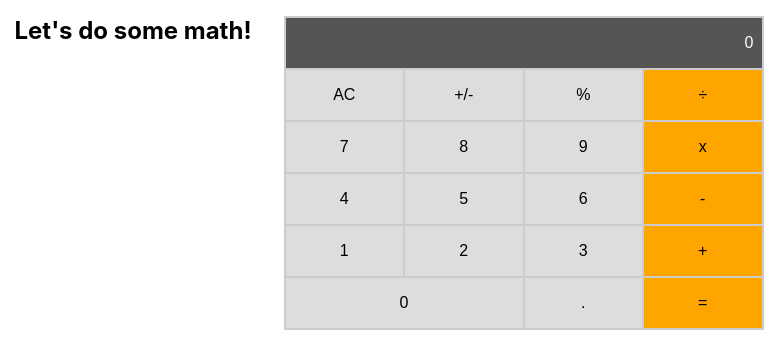
it: Tests for Calculator Module › Display updates when buttons are pressed
Click the button "1" at point(344, 251), box [286,226,403,276]
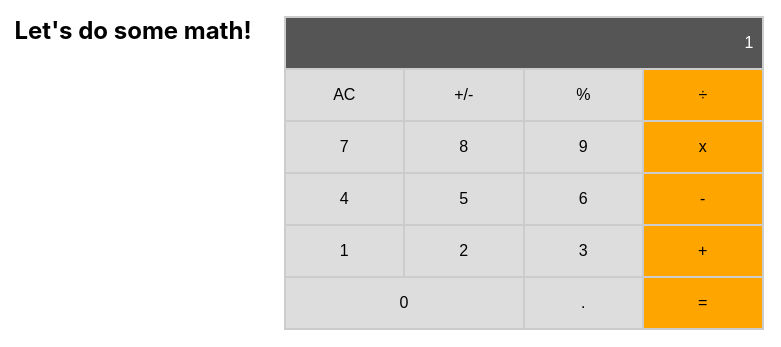
Now the field with id "input-display" holds "1", box [294,34,754,52]
Click the button "0" at point(404, 303), box [286,278,522,328]
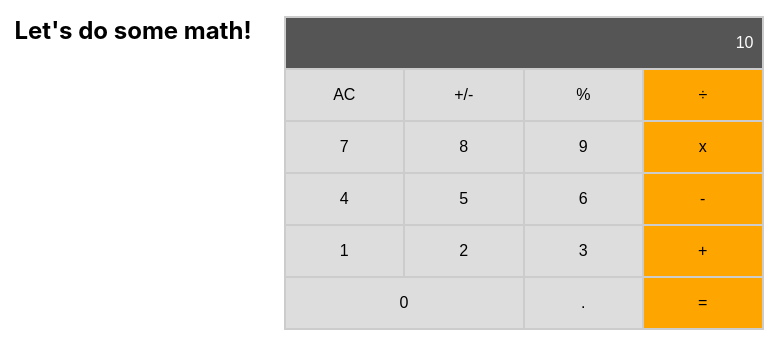
Now the field with id "input-display" holds "10", box [294,34,754,52]
